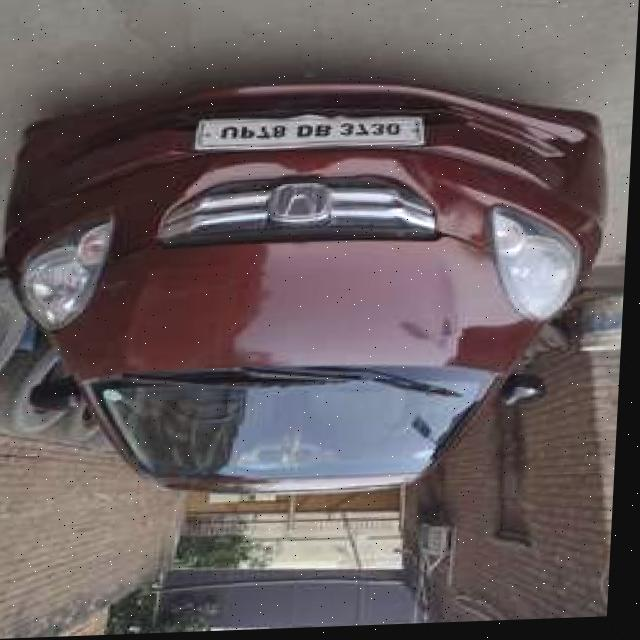plate: (195, 109, 434, 157)
